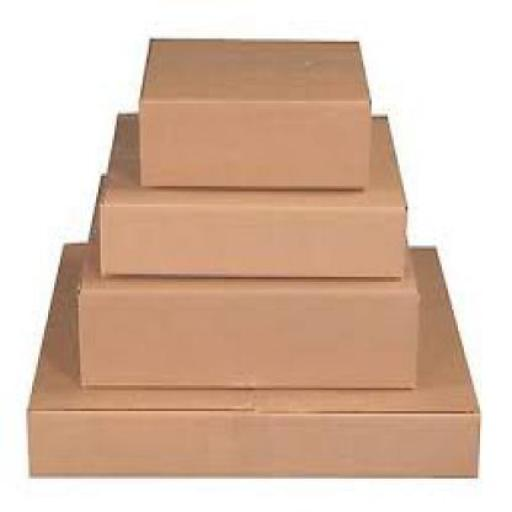cardboard: (26, 240, 480, 476), (72, 174, 418, 390), (96, 111, 406, 274), (136, 36, 367, 186)
